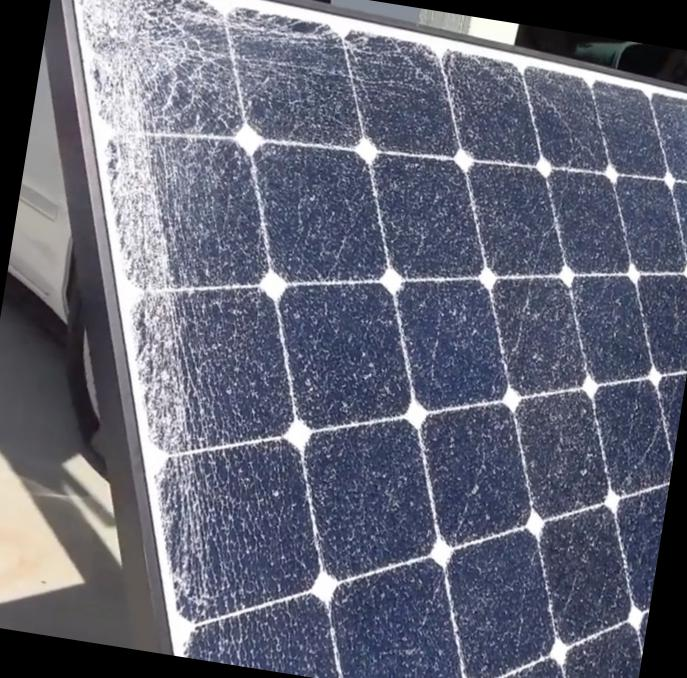Crack: (35, 0, 383, 194), (64, 290, 230, 465), (88, 457, 255, 625), (50, 156, 228, 300)
